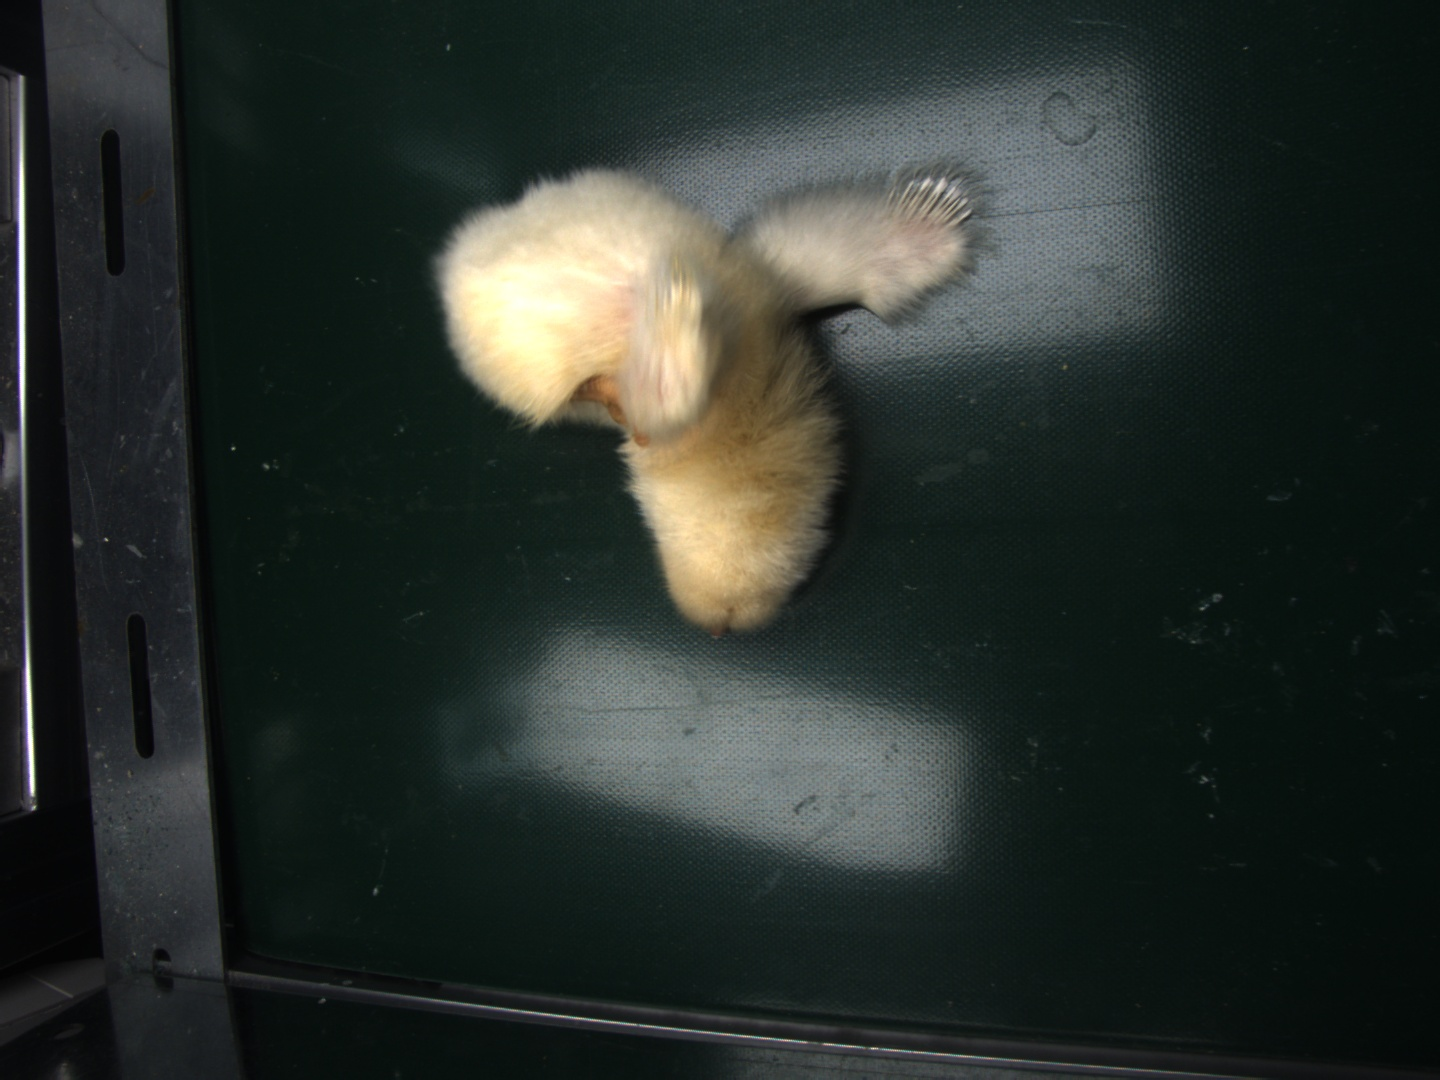male: (892, 172, 971, 225)
